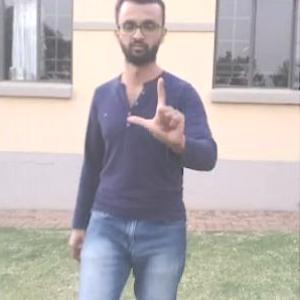land_hand: (123, 70, 190, 150)
